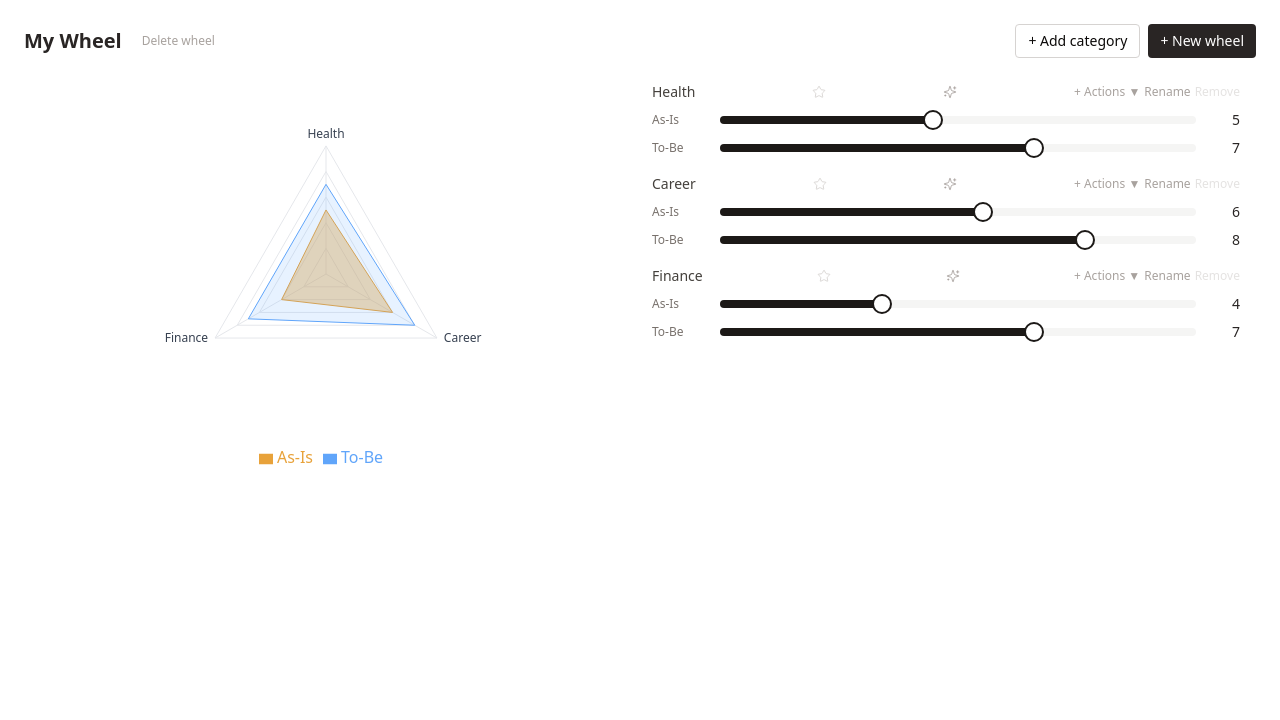
WheelPage › upgrade prompt (WHEEL-06, WHEEL-07) › opens create wheel modal when premium-tier user clicks create wheel
Click the button "+ New wheel": x=1202, y=41 [1148,24,1256,58]
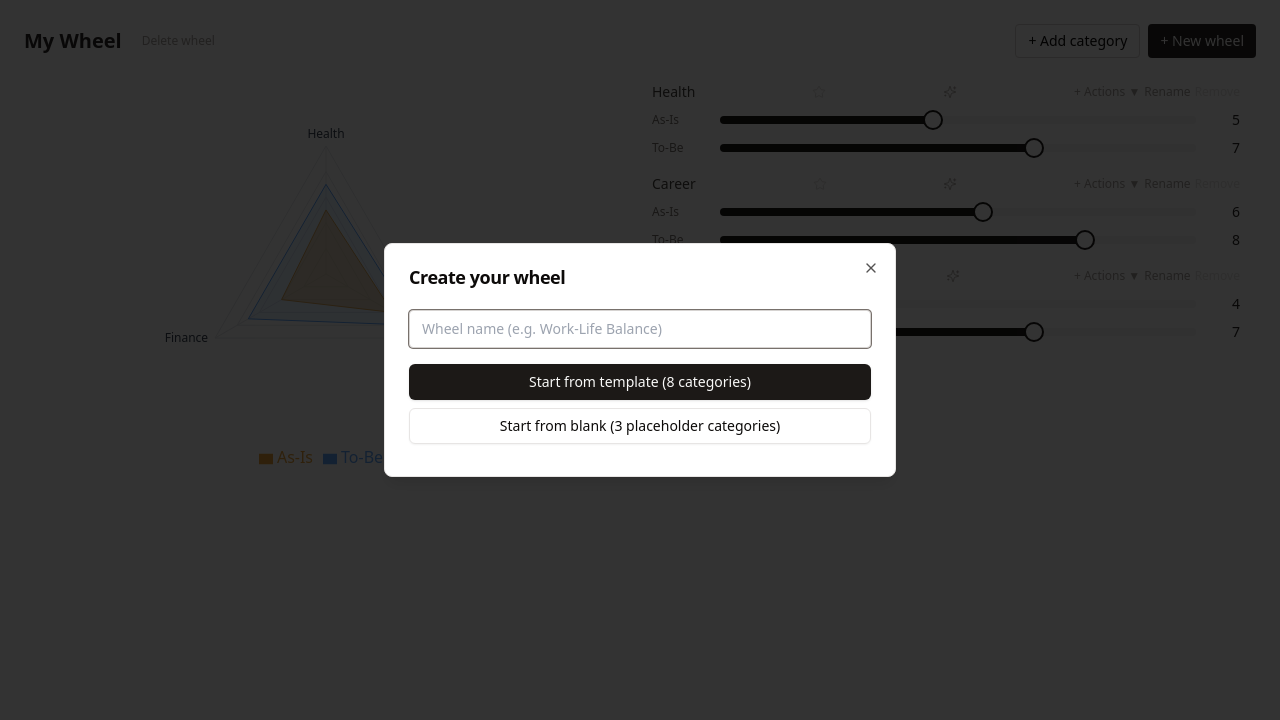
Result: the heading "Create your wheel" is shown at [409,265,565,289]
